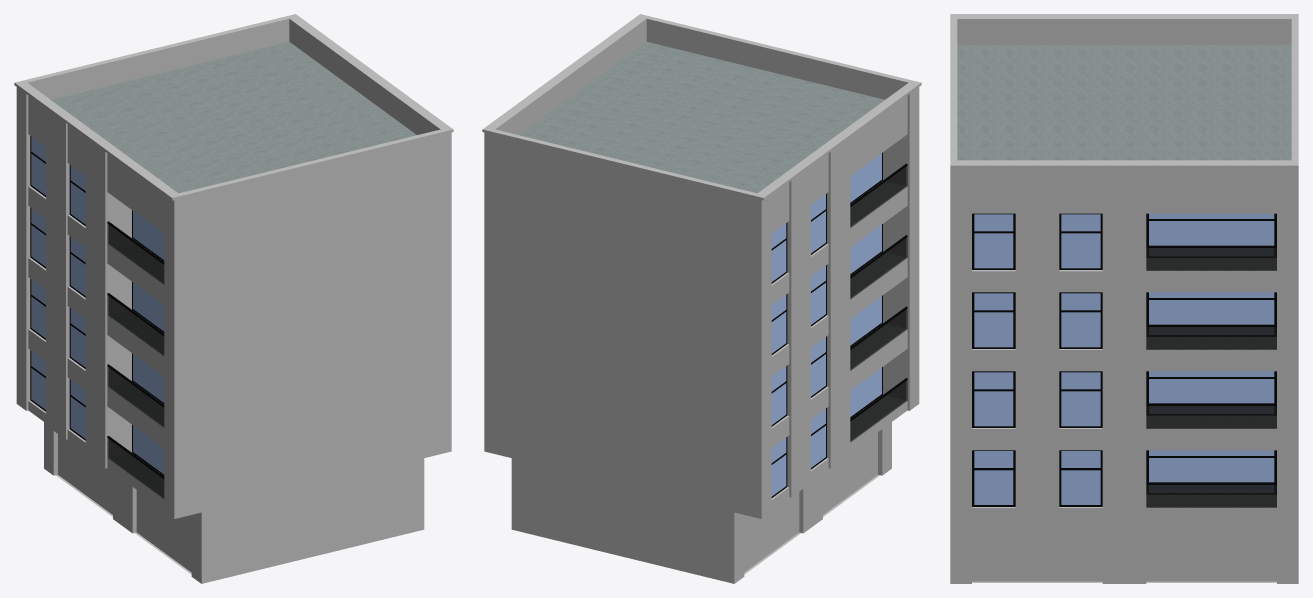
The model's file is Build_middle.fbx.
The picture shows the model from 3 angles, left to right: view 1: azimuth 30°, elevation 25°; view 2: azimuth 150°, elevation 25°; view 3: azimuth 270°, elevation 25°; orthographic projection. The views are drawn at different scales.
Parts seen in each view (by area): view 1: building_middle; view 2: building_middle; view 3: building_middle.
Part boxes in pixels (<box>): building_middle: <box>14,14,453,583</box>; building_middle: <box>482,14,921,583</box>; building_middle: <box>950,14,1298,583</box>.
Size of the model in its own units: 412 by 550 by 400.
